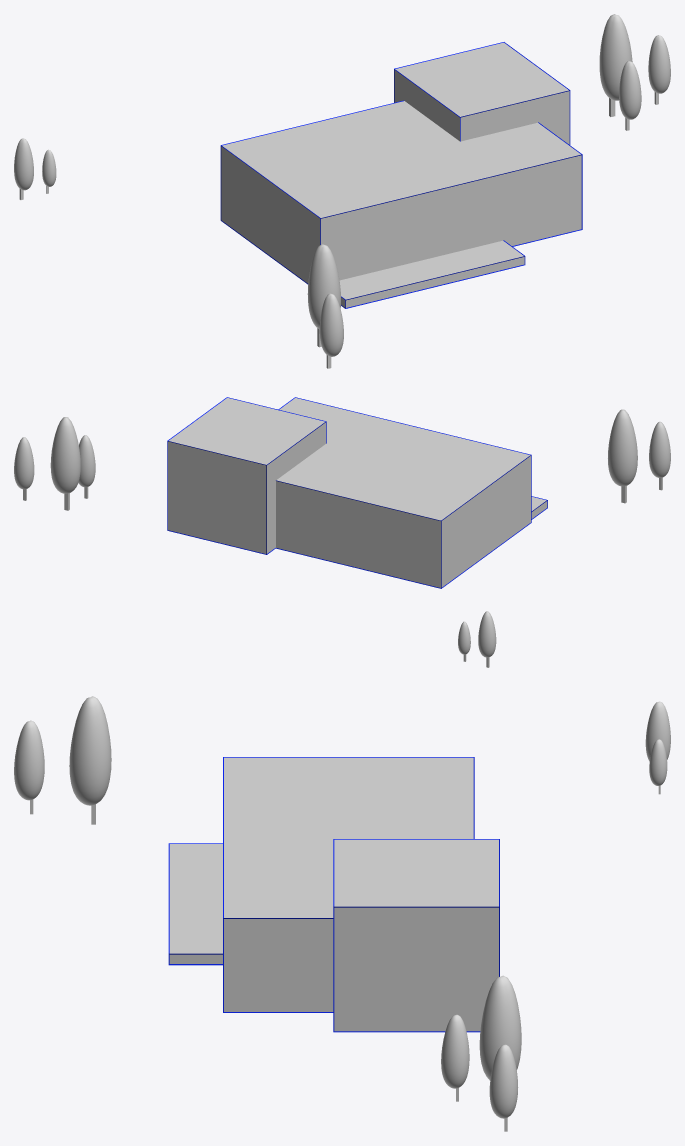
The model's file is maison.glb.
3 renders of one model, top to bottom at view 1: azimuth 30°, elevation 25°; view 2: azimuth 150°, elevation 25°; view 3: azimuth 270°, elevation 25°, orthographic. The views are drawn at different scales.
Visible parts, largest first — view 1: Cube.001, Cube.002, Sphere.002, Sphere.001, Sphere, Sphere.003, Sphere.004, Sphere.005; view 2: Cube.001, Cube.002, Sphere.002, Sphere.001, Sphere, Sphere.004, Sphere.003, Sphere.005; view 3: Cube.001, Sphere.001, Sphere.002, Cube.002, Sphere, Sphere.004, Sphere.003, Sphere.005, Sphere.006.
Boxes of the visible parts, x1,y1,x2,y2 form: Cube.001: [221, 42, 581, 307]; Cube.002: [220, 42, 582, 308]; Sphere.002: [599, 14, 632, 116]; Sphere.001: [307, 244, 340, 347]; Sphere: [319, 293, 343, 368]; Sphere.003: [619, 61, 641, 130]; Sphere.004: [648, 35, 670, 104]; Sphere.005: [14, 138, 33, 199]; Cube.001: [168, 398, 547, 587]; Cube.002: [167, 397, 547, 588]; Sphere.002: [50, 417, 80, 510]; Sphere.001: [608, 409, 637, 503]; Sphere: [649, 421, 670, 490]; Sphere.004: [14, 437, 34, 500]; Sphere.003: [78, 435, 95, 498]; Sphere.005: [478, 611, 496, 667]; Cube.001: [169, 757, 498, 1031]; Sphere.001: [69, 696, 111, 824]; Sphere.002: [479, 975, 521, 1080]; Cube.002: [168, 757, 499, 1032]; Sphere: [14, 720, 44, 814]; Sphere.004: [489, 1044, 518, 1131]; Sphere.003: [441, 1014, 469, 1101]; Sphere.005: [645, 701, 670, 761]; Sphere.006: [649, 739, 667, 794].
Size of the model in its own units: 11.13 by 1.83 by 8.48.
